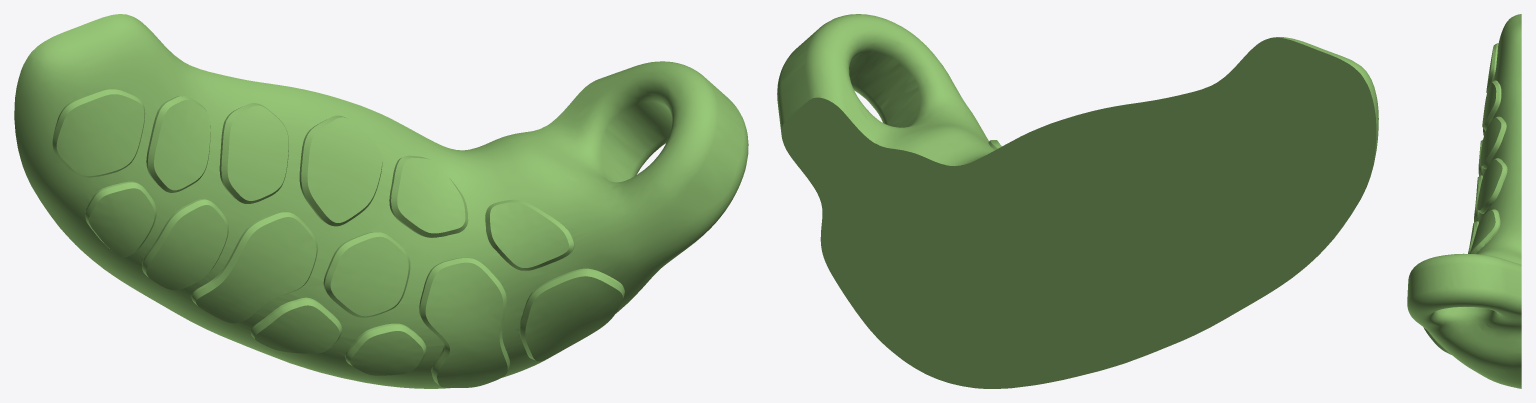
3 views of the same model, side by side, from view 1: azimuth 30°, elevation 25°; view 2: azimuth 150°, elevation 25°; view 3: azimuth 270°, elevation 25° (orthographic). The views are drawn at different scales.
Visible parts, largest first — view 1: mesh3237; view 2: mesh3237; view 3: mesh3237.
Boxes of the visible parts, x1,y1,x2,y2 form: mesh3237: (14, 14, 748, 388); mesh3237: (777, 14, 1378, 388); mesh3237: (1407, 14, 1521, 388).
Size of the model in its own units: 0.2102 by 0.1361 by 0.0549.
